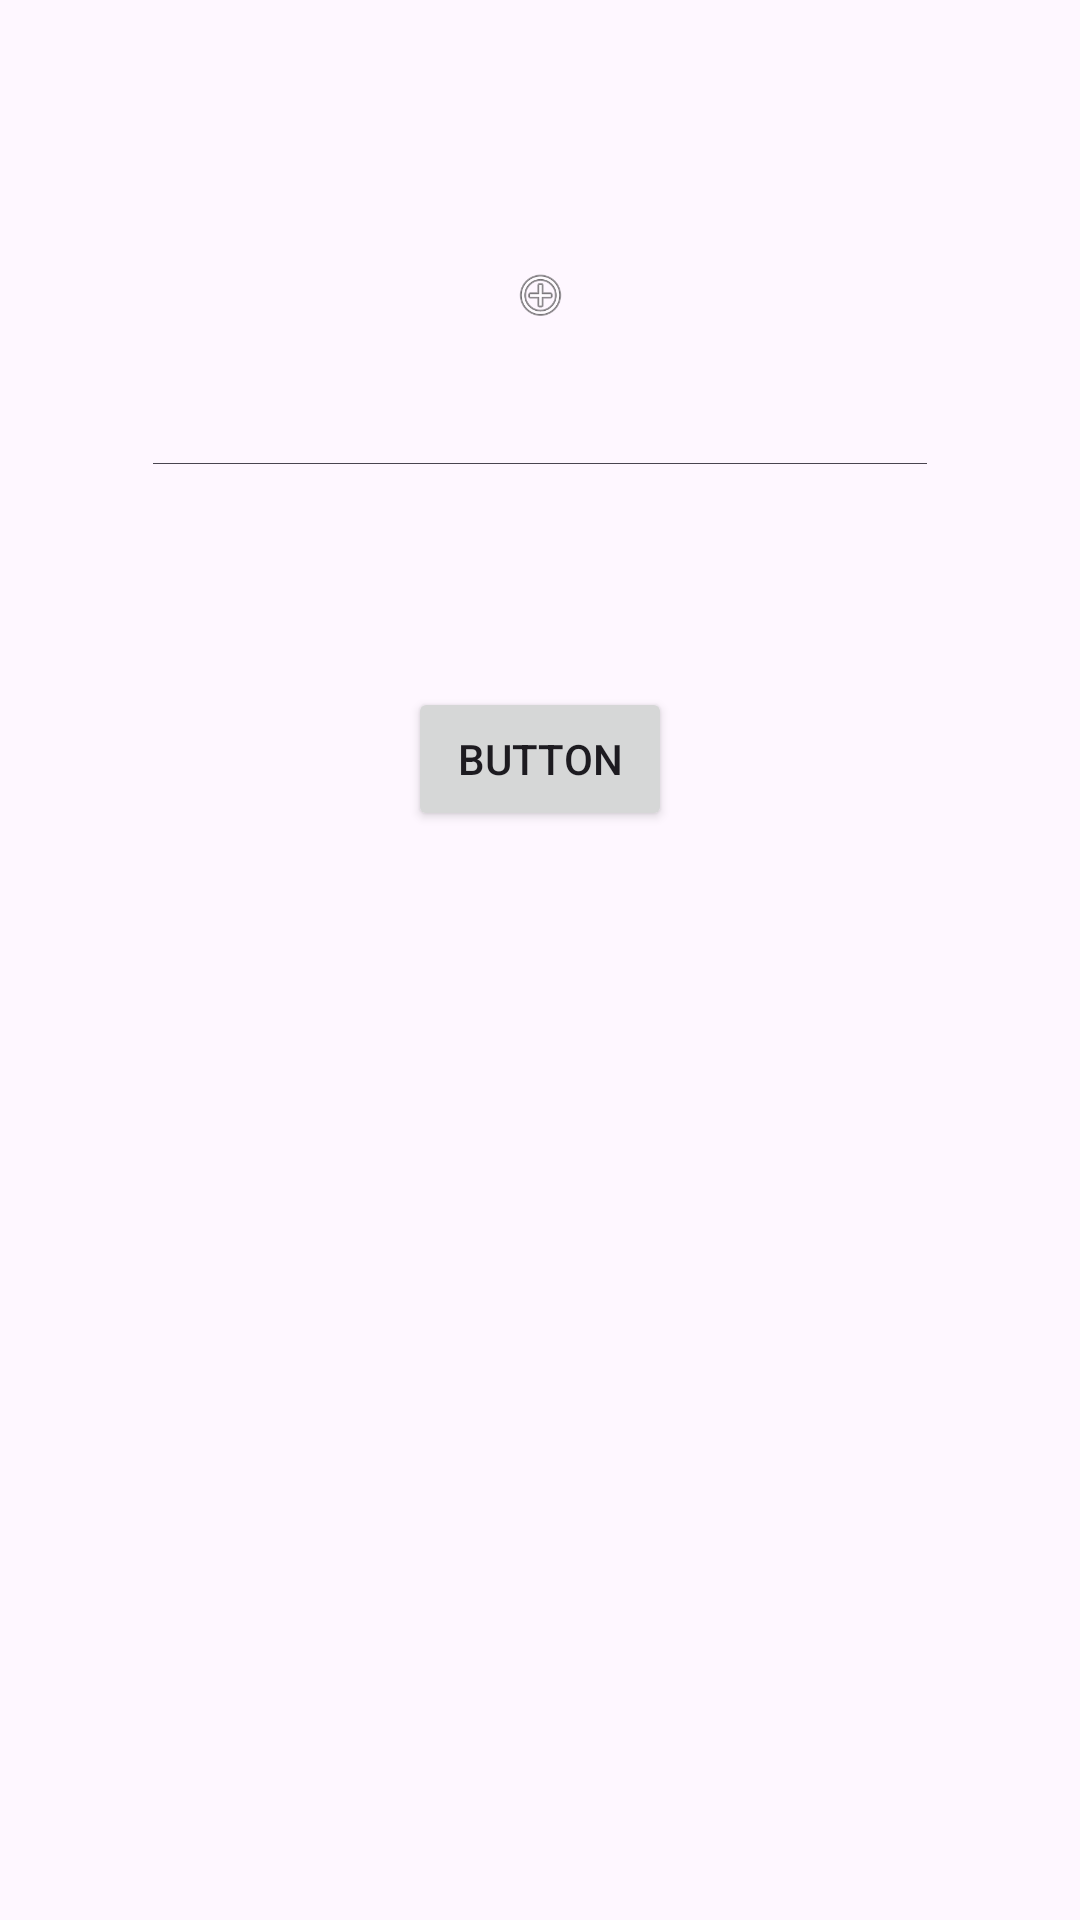

Icon click points for this 1080×1920 phone screenshot, format [x,y]:
add: [540,295]
